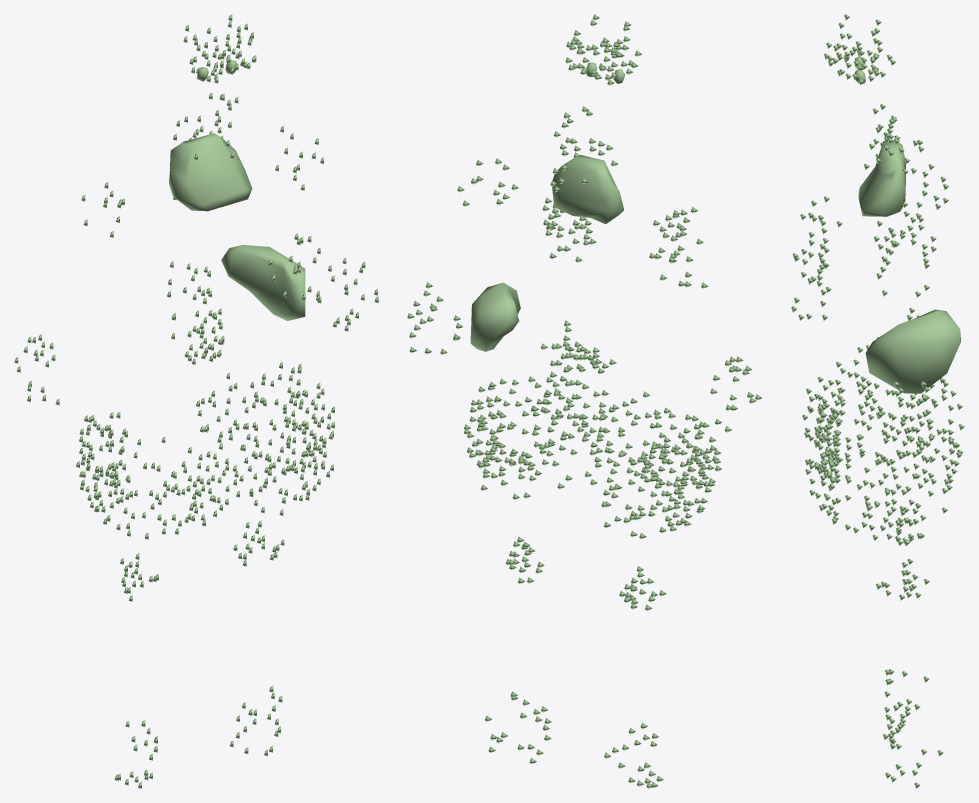
Rendered from pediatric_infant_female.lymphatic.LOD3.glb.
3 renders of one model, left to right at view 1: azimuth 30°, elevation 25°; view 2: azimuth 150°, elevation 25°; view 3: azimuth 270°, elevation 25°, orthographic. The views are drawn at different scales.
Parts seen in each view (by area): view 1: PEDIATRIC.INFANT.FEMALE.LYMPHATIC.LYMPHATIC_NODES_TRUNK, PEDIATRIC.INFANT.FEMALE.LYMPHATIC.THYMUS, PEDIATRIC.INFANT.FEMALE.LYMPHATIC.SPLEEN, PEDIATRIC.INFANT.FEMALE.LYMPHATIC.LYMPHATIC_NODES_ET, PEDIATRIC.INFANT.FEMALE.LYMPHATIC.LYMPHATIC_NODES_ARMS, PEDIATRIC.INFANT.FEMALE.LYMPHATIC.LYMPHATIC_NODES_LEGS, PEDIATRIC.INFANT.FEMALE.LYMPHATIC.LYMPHATIC_NODES_THORACIC; view 2: PEDIATRIC.INFANT.FEMALE.LYMPHATIC.LYMPHATIC_NODES_TRUNK, PEDIATRIC.INFANT.FEMALE.LYMPHATIC.THYMUS, PEDIATRIC.INFANT.FEMALE.LYMPHATIC.SPLEEN, PEDIATRIC.INFANT.FEMALE.LYMPHATIC.LYMPHATIC_NODES_THORACIC, PEDIATRIC.INFANT.FEMALE.LYMPHATIC.LYMPHATIC_NODES_ET, PEDIATRIC.INFANT.FEMALE.LYMPHATIC.LYMPHATIC_NODES_LEGS, PEDIATRIC.INFANT.FEMALE.LYMPHATIC.LYMPHATIC_NODES_ARMS; view 3: PEDIATRIC.INFANT.FEMALE.LYMPHATIC.LYMPHATIC_NODES_TRUNK, PEDIATRIC.INFANT.FEMALE.LYMPHATIC.SPLEEN, PEDIATRIC.INFANT.FEMALE.LYMPHATIC.THYMUS, PEDIATRIC.INFANT.FEMALE.LYMPHATIC.LYMPHATIC_NODES_ET, PEDIATRIC.INFANT.FEMALE.LYMPHATIC.LYMPHATIC_NODES_LEGS, PEDIATRIC.INFANT.FEMALE.LYMPHATIC.LYMPHATIC_NODES_ARMS, PEDIATRIC.INFANT.FEMALE.LYMPHATIC.LYMPHATIC_NODES_THORACIC, PEDIATRIC.INFANT.FEMALE.LYMPHATIC.LYMPHATIC_NODES_HEAD.
Boxes of the visible parts, left/top/right/bottom form: PEDIATRIC.INFANT.FEMALE.LYMPHATIC.LYMPHATIC_NODES_TRUNK: left=76, top=125, right=334, bottom=601; PEDIATRIC.INFANT.FEMALE.LYMPHATIC.THYMUS: left=169, top=133, right=252, bottom=211; PEDIATRIC.INFANT.FEMALE.LYMPHATIC.SPLEEN: left=221, top=245, right=305, bottom=320; PEDIATRIC.INFANT.FEMALE.LYMPHATIC.LYMPHATIC_NODES_ET: left=183, top=14, right=256, bottom=83; PEDIATRIC.INFANT.FEMALE.LYMPHATIC.LYMPHATIC_NODES_ARMS: left=14, top=257, right=378, bottom=405; PEDIATRIC.INFANT.FEMALE.LYMPHATIC.LYMPHATIC_NODES_LEGS: left=114, top=685, right=282, bottom=788; PEDIATRIC.INFANT.FEMALE.LYMPHATIC.LYMPHATIC_NODES_THORACIC: left=173, top=128, right=224, bottom=364; PEDIATRIC.INFANT.FEMALE.LYMPHATIC.LYMPHATIC_NODES_TRUNK: left=457, top=158, right=721, bottom=610; PEDIATRIC.INFANT.FEMALE.LYMPHATIC.THYMUS: left=552, top=155, right=623, bottom=224; PEDIATRIC.INFANT.FEMALE.LYMPHATIC.SPLEEN: left=470, top=282, right=520, bottom=351; PEDIATRIC.INFANT.FEMALE.LYMPHATIC.LYMPHATIC_NODES_THORACIC: left=541, top=164, right=616, bottom=374; PEDIATRIC.INFANT.FEMALE.LYMPHATIC.LYMPHATIC_NODES_ET: left=565, top=14, right=641, bottom=85; PEDIATRIC.INFANT.FEMALE.LYMPHATIC.LYMPHATIC_NODES_LEGS: left=485, top=691, right=663, bottom=788; PEDIATRIC.INFANT.FEMALE.LYMPHATIC.LYMPHATIC_NODES_ARMS: left=407, top=282, right=761, bottom=432; PEDIATRIC.INFANT.FEMALE.LYMPHATIC.LYMPHATIC_NODES_TRUNK: left=791, top=127, right=964, bottom=600; PEDIATRIC.INFANT.FEMALE.LYMPHATIC.SPLEEN: left=865, top=309, right=960, bottom=393; PEDIATRIC.INFANT.FEMALE.LYMPHATIC.THYMUS: left=858, top=140, right=905, bottom=216; PEDIATRIC.INFANT.FEMALE.LYMPHATIC.LYMPHATIC_NODES_ET: left=824, top=14, right=895, bottom=85; PEDIATRIC.INFANT.FEMALE.LYMPHATIC.LYMPHATIC_NODES_LEGS: left=883, top=669, right=943, bottom=788; PEDIATRIC.INFANT.FEMALE.LYMPHATIC.LYMPHATIC_NODES_ARMS: left=876, top=230, right=931, bottom=447; PEDIATRIC.INFANT.FEMALE.LYMPHATIC.LYMPHATIC_NODES_THORACIC: left=866, top=146, right=948, bottom=349; PEDIATRIC.INFANT.FEMALE.LYMPHATIC.LYMPHATIC_NODES_HEAD: left=864, top=104, right=904, bottom=169.
Size of the model in its own units: 0.2522 by 0.5143 by 0.1107.
